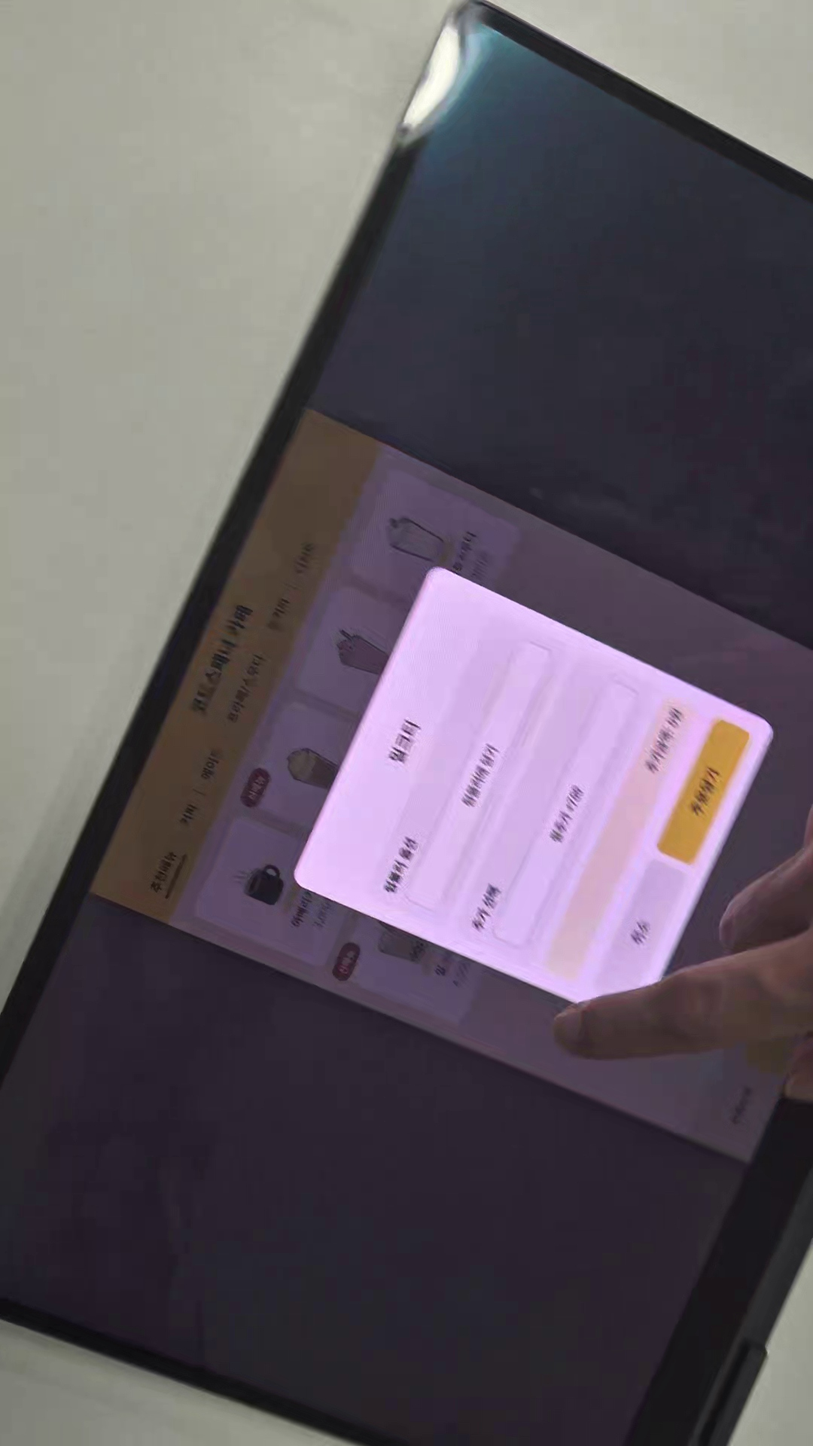action_button: (594, 860, 686, 1004), (658, 720, 749, 865)
option_button: (406, 641, 555, 910), (493, 681, 638, 947)
popup_modal: (293, 568, 772, 1023)
